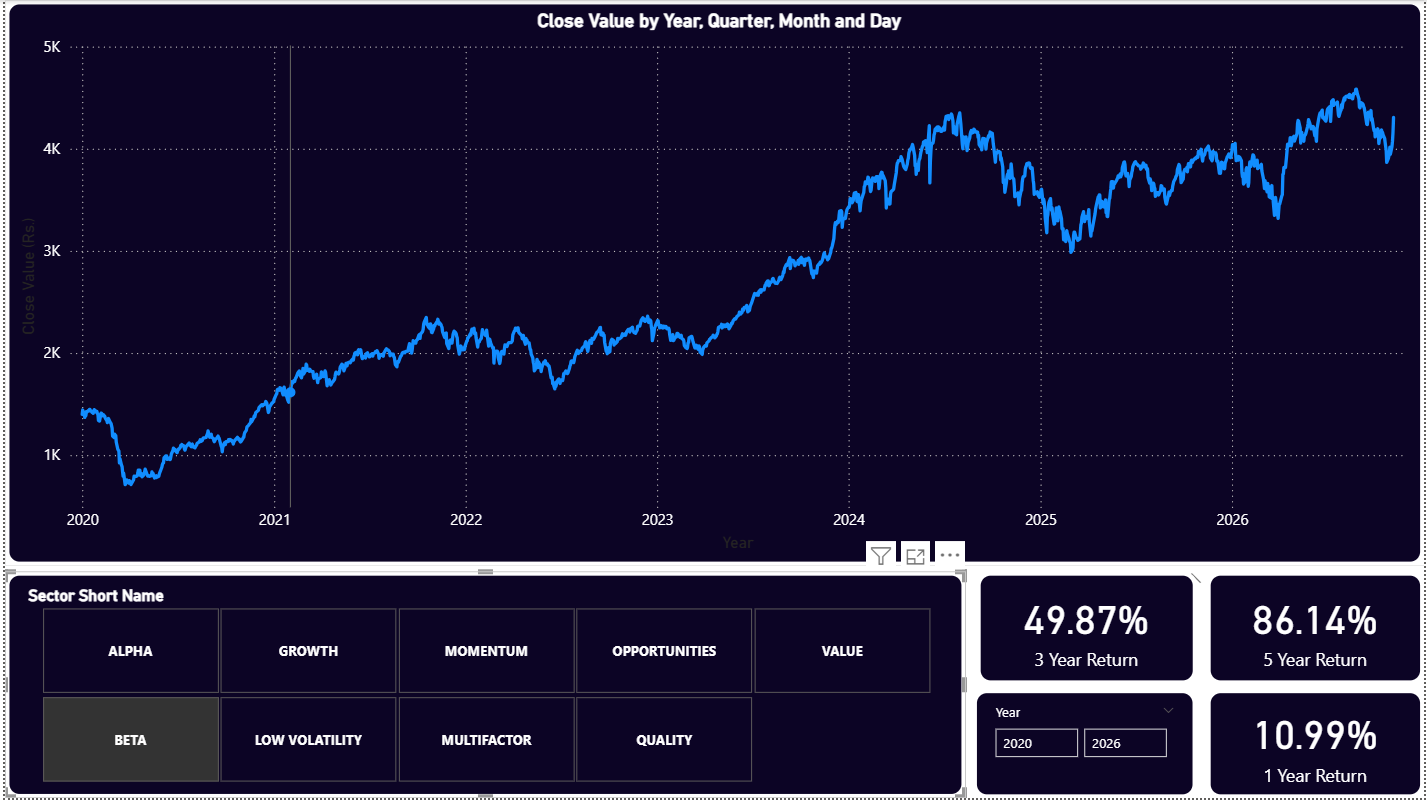

This screenshot's page, from the dashboard's own definition file:
{"tool":"powerbi","page":{"name":"Individual Report","canvas":[1280,720],"ordinal":1},"visuals":[{"type":"lineChart","title":" Close Value by Year, Quarter, Month and Day","fields":{"Category":["Date Table.Date.Variation.Date Hierarchy.Year","Date Table.Date.Variation.Date Hierarchy.Quarter","Date Table.Date.Variation.Date Hierarchy.Month","Date Table.Date.Variation.Date Hierarchy.Day"],"Y":["Max(Combine Data.Close)"]},"box":[0,0,1280.2,510.5],"z":0},{"type":"slicer","fields":{"Values":["Combine Data.Sector Short Name"]},"box":[0,515.1,866.3,204.7],"z":1000},{"type":"slicer","fields":{"Values":["Date Table.Year"]},"box":[872.1,620.9,202.3,98.8],"z":2000},{"type":"card","fields":{"Values":["Combine Data.3 Year Return"]},"box":[875.6,514.5,198.8,102.3],"z":3000},{"type":"card","fields":{"Values":["Combine Data.5 Year Return"]},"box":[1083.7,514.5,196.5,102.3],"z":4000},{"type":"card","fields":{"Values":["Combine Data.1 Year Return"]},"box":[1083.7,620.9,196.5,98.8],"z":5000}]}

Visuals, with their boxes in screenshot pixels (x1, y1, x2, y2), scaled from the page's 1280x720 canvas onto the 1427x800 screenshot:
" Close Value by Year, Quarter, Month and Day" lineChart: detection(0, 0, 1426, 567)
slicer - Combine Data.Sector Short Name: detection(0, 572, 966, 799)
slicer - Date Table.Year: detection(972, 690, 1198, 799)
card - Combine Data.3 Year Return: detection(976, 572, 1198, 685)
card - Combine Data.5 Year Return: detection(1208, 572, 1426, 685)
card - Combine Data.1 Year Return: detection(1208, 690, 1426, 799)
